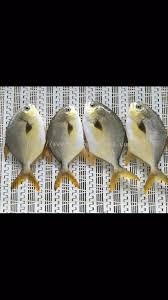Ikan Bawal: (80, 97, 140, 190), (123, 92, 168, 198), (4, 103, 49, 194), (45, 102, 86, 196)
